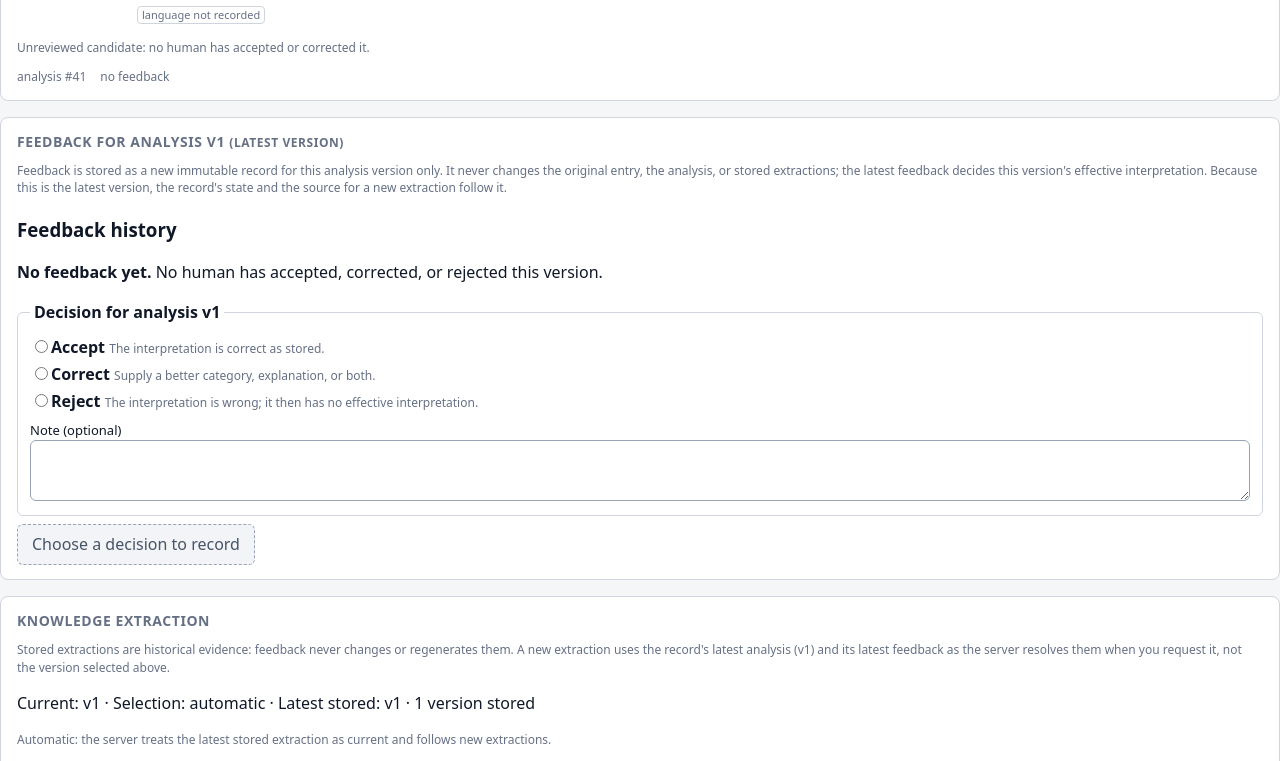
Test: Record feedback decisions › keeps the draft and shows the backend message when feedback is invalid
(page scrolled)
Expected: the text "No feedback yet." is shown, [17,261,152,283]
Click the radio button labelled "Correct Supply a better category, explanation, or both." at (42,374), box [35,367,48,380]
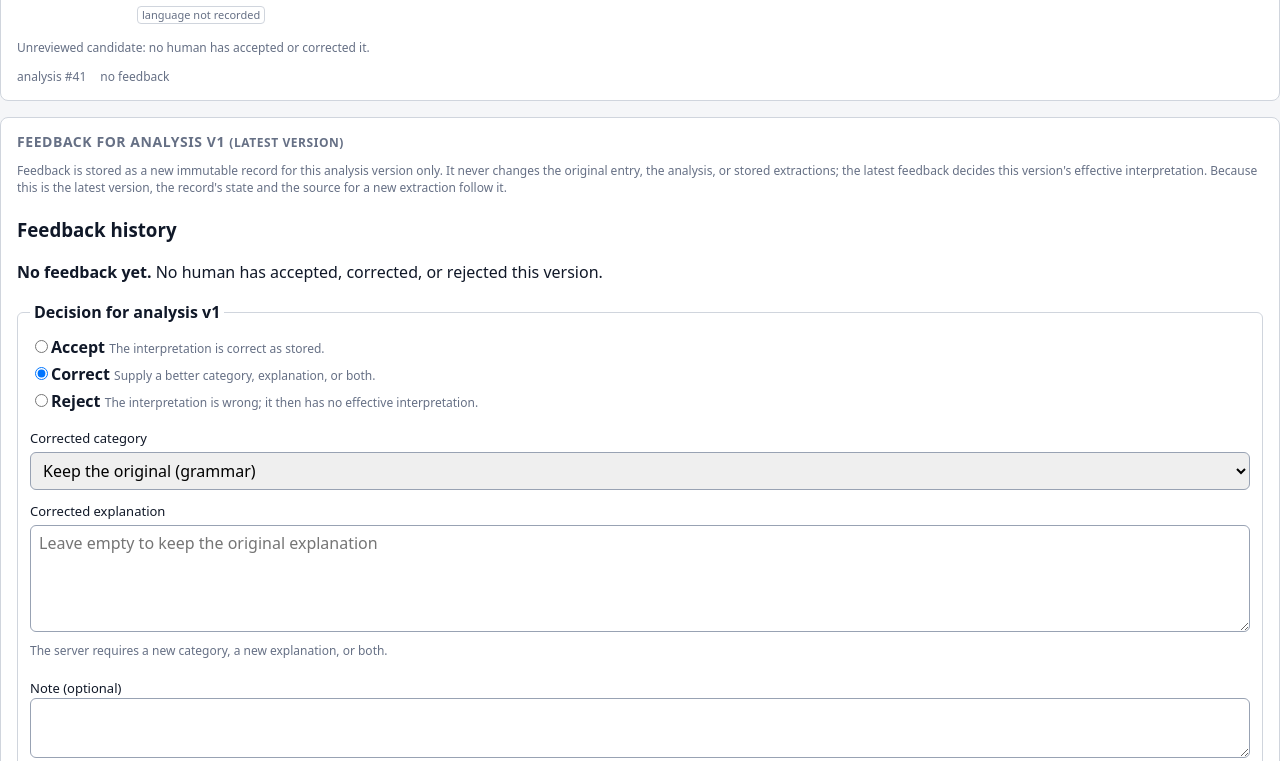
Select "pragmatics" in the dropdown labelled "Corrected category" at (640,471), box [30,452,1250,490]
(page scrolled)
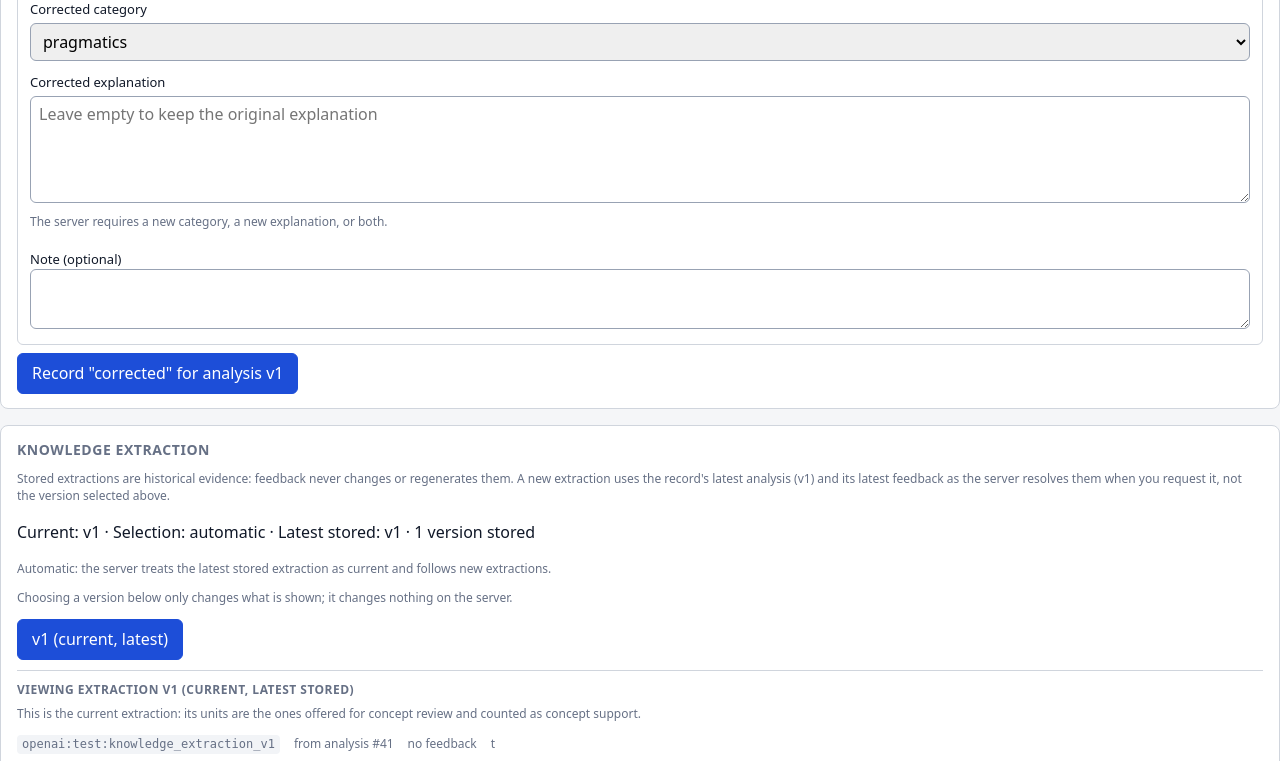
Click the button "Record \"corrected\" for analysis v1" at (158,373), box [17,353,298,394]
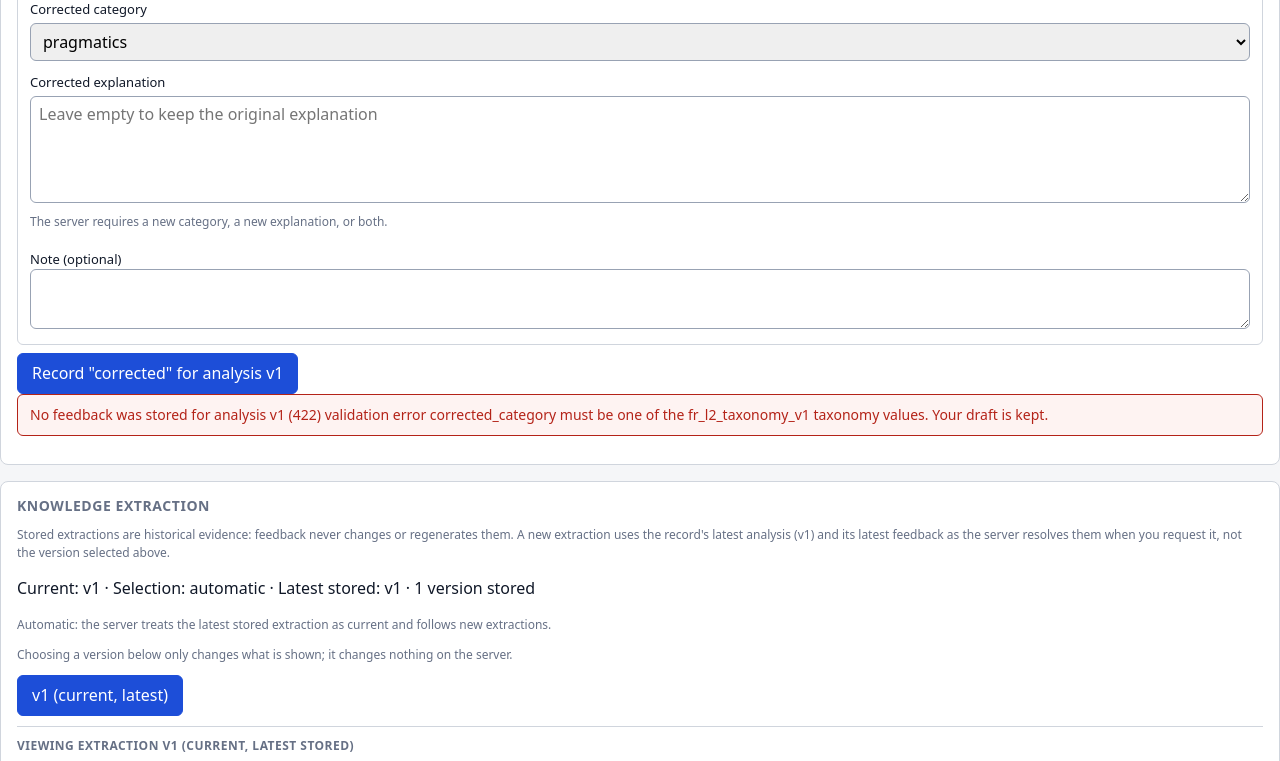
Result: the message is shown at [17,394,1263,436]
Result: the message shows "corrected_category must be one of the fr_l2_taxonomy_v1 taxonomy values. Your draft is kept." at [30,405,1048,424]
